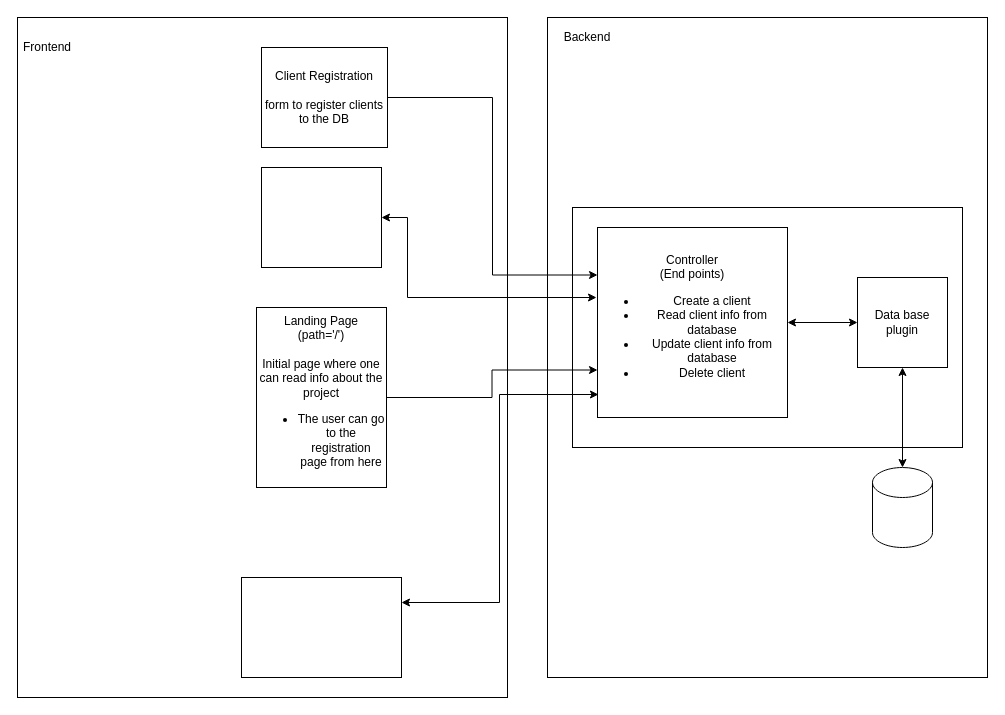
The diagram is 1005 pixels wide and 715 high, and some of its shapes have lost their labels. Each missing label, with the box of its shape:
Client Page Check plastic balance Shopping history: (260, 166, 382, 268)
Product registration Introduce product ID Send shop list to backed: (240, 576, 402, 678)
